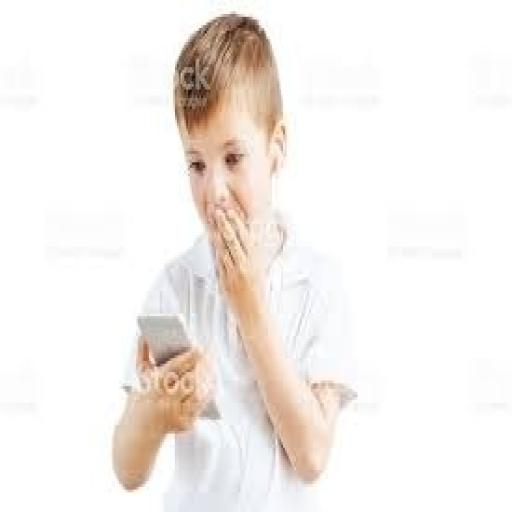listening_to_music: (108, 8, 357, 510)
